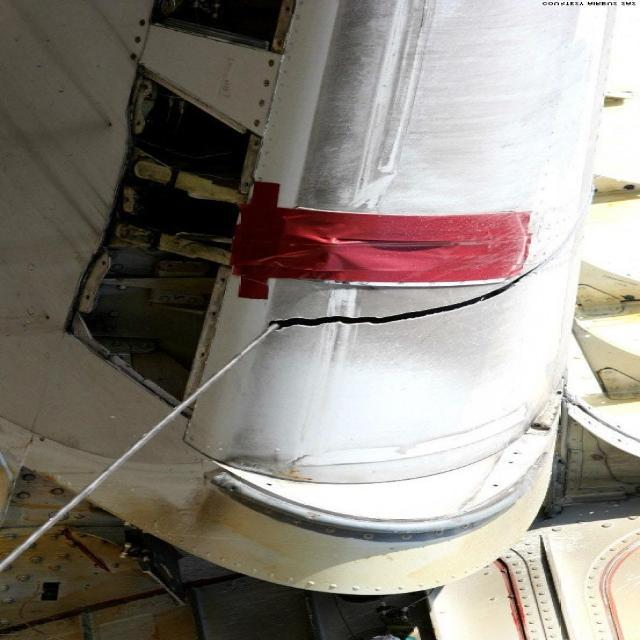crack: (249, 262, 614, 360)
